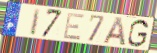7: (40, 8, 64, 40), (89, 14, 106, 43)
A: (102, 16, 127, 47)
E: (62, 12, 86, 42)
G: (126, 19, 150, 49)
I: (29, 8, 42, 37)
